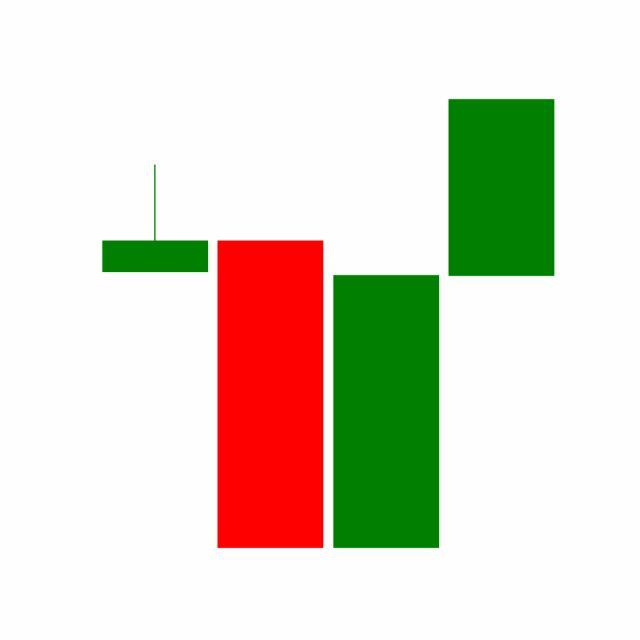Marubozu: (329, 272, 445, 551)
